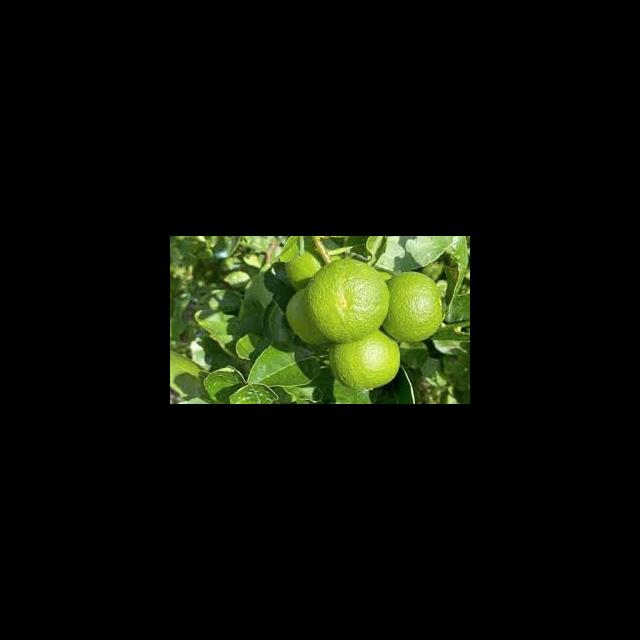lime: (289, 253, 445, 390), (306, 260, 385, 341), (369, 274, 445, 342), (328, 333, 402, 392)
